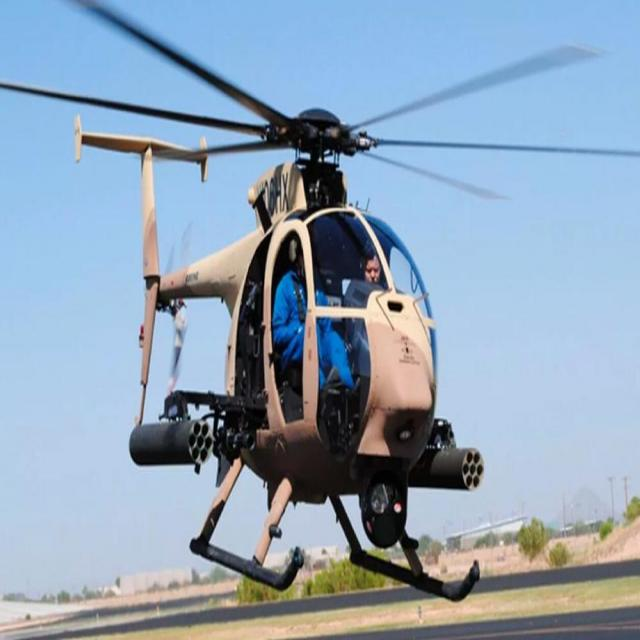MIL_HELO: (23, 6, 597, 603)
